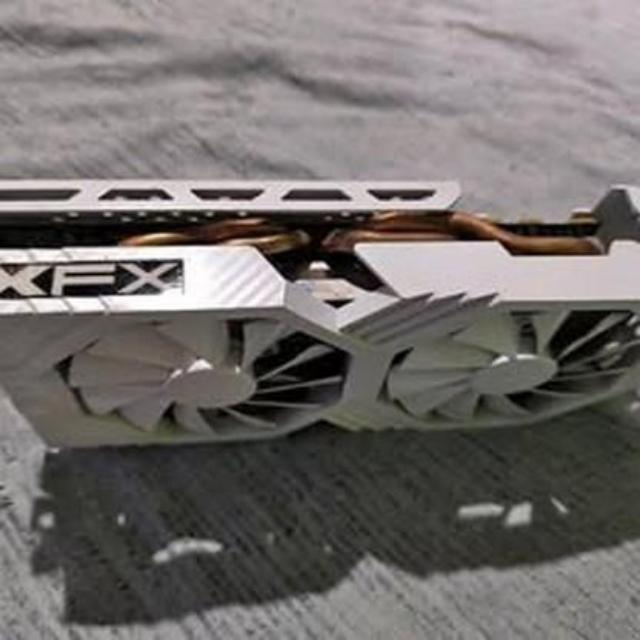GPU: (0, 175, 640, 454)
